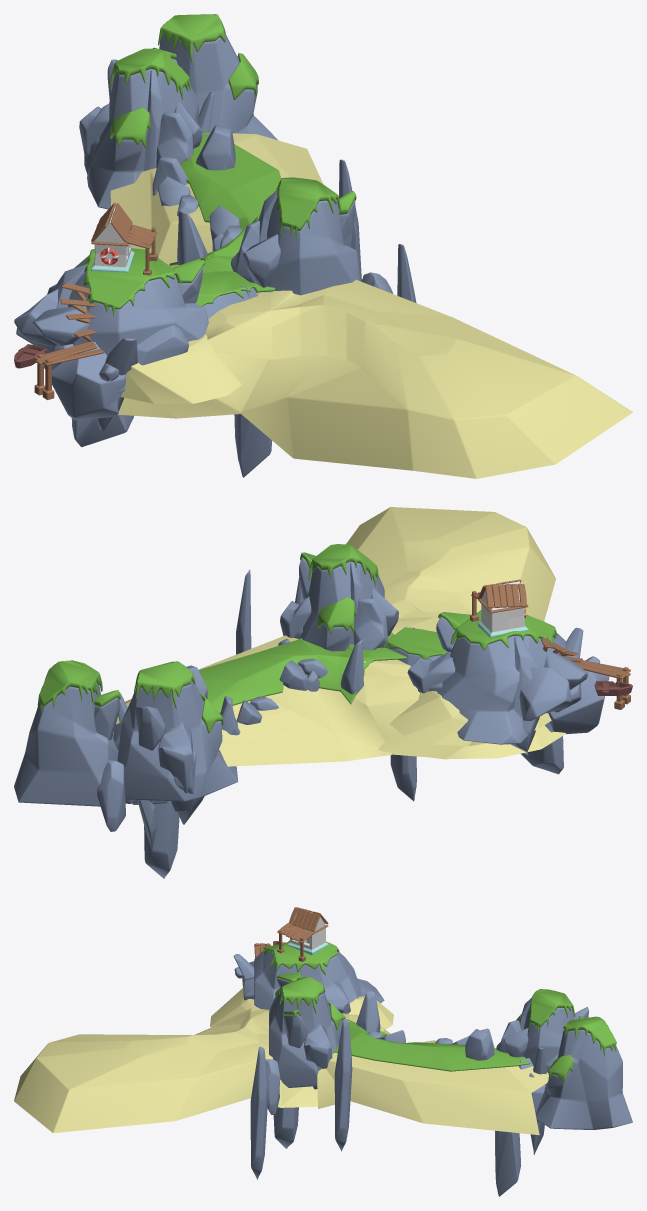
File: House.fbx
3 views of the same model, one above another, from view 1: azimuth 30°, elevation 25°; view 2: azimuth 150°, elevation 25°; view 3: azimuth 270°, elevation 25° (orthographic). The views are drawn at different scales.
Parts seen in each view (by area): view 1: Cube.010, Cube.002, Cube.016, Cube.011, Cube.076, Cube.012, Cube.017, Cube.018, Cube.006, Cube.004, Cube.014, Cube.020 (+3 smaller); view 2: Cube.016, Cube.010, Cube.002, Cube.012, Cube.018, Cube.076, Cube.011, Cube.017, Cube.006, Cube.014, Cube.020, Cube.004 (+3 smaller); view 3: Cube.010, Cube.012, Cube.016, Cube.011, Cube.076, Cube.002, Cube.018, Cube.017, Cube.004, Cube.014, Cube.006, Cube.021 (+1 smaller).
Boxes of the visible parts, x1,y1,x2,y2 form: Cube.010: (117, 279, 632, 478); Cube.002: (14, 211, 208, 433); Cube.016: (79, 33, 277, 209); Cube.011: (196, 125, 416, 477); Cube.076: (258, 189, 360, 295); Cube.012: (110, 132, 323, 267); Cube.017: (110, 14, 258, 148); Cube.018: (169, 130, 281, 283); Cube.006: (120, 334, 241, 403); Cube.004: (81, 248, 204, 316); Cube.014: (245, 177, 356, 240); Cube.020: (158, 176, 242, 251); Cube.016: (14, 680, 240, 878); Cube.010: (346, 507, 566, 759); Cube.002: (340, 617, 609, 755); Cube.012: (113, 635, 426, 766); Cube.018: (198, 638, 406, 713); Cube.076: (280, 557, 384, 651); Cube.011: (186, 569, 416, 801); Cube.017: (37, 660, 223, 733); Cube.006: (389, 691, 551, 746); Cube.014: (300, 544, 378, 634); Cube.020: (236, 658, 328, 724); Cube.004: (438, 610, 557, 650); Cube.010: (14, 999, 317, 1133); Cube.012: (317, 1013, 548, 1135); Cube.016: (481, 997, 632, 1196); Cube.011: (250, 1018, 494, 1179); Cube.076: (269, 991, 342, 1089); Cube.002: (233, 950, 384, 1032); Cube.018: (332, 1019, 530, 1071); Cube.017: (516, 989, 616, 1083); Cube.004: (263, 941, 339, 982); Cube.014: (275, 976, 345, 1030); Cube.006: (210, 987, 393, 1029); Cube.021: (287, 912, 328, 955).
Bounding box in the file's own units: 1236 × 714 × 1961.
